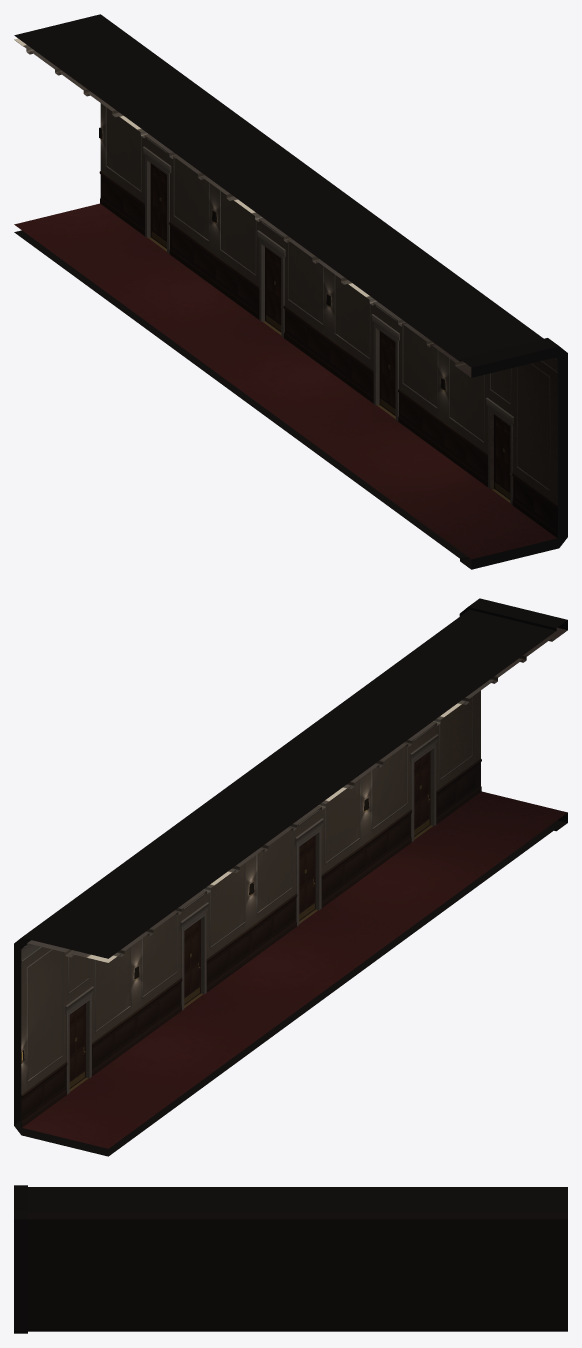
The model's file is hallway.glb.
3 views of the same model, one above another, from view 1: azimuth 30°, elevation 25°; view 2: azimuth 150°, elevation 25°; view 3: azimuth 270°, elevation 25° (orthographic). The views are drawn at different scales.
Parts seen in each view (by area): view 1: Corridor; view 2: Corridor; view 3: Corridor.
Boxes of the visible parts, x1,y1,x2,y2 form: Corridor: (14, 14, 567, 569); Corridor: (14, 598, 567, 1156); Corridor: (14, 1185, 567, 1333).
Bounding box in the file's own units: 3.9 × 7.8 × 32.
1 material, 1 textured.
